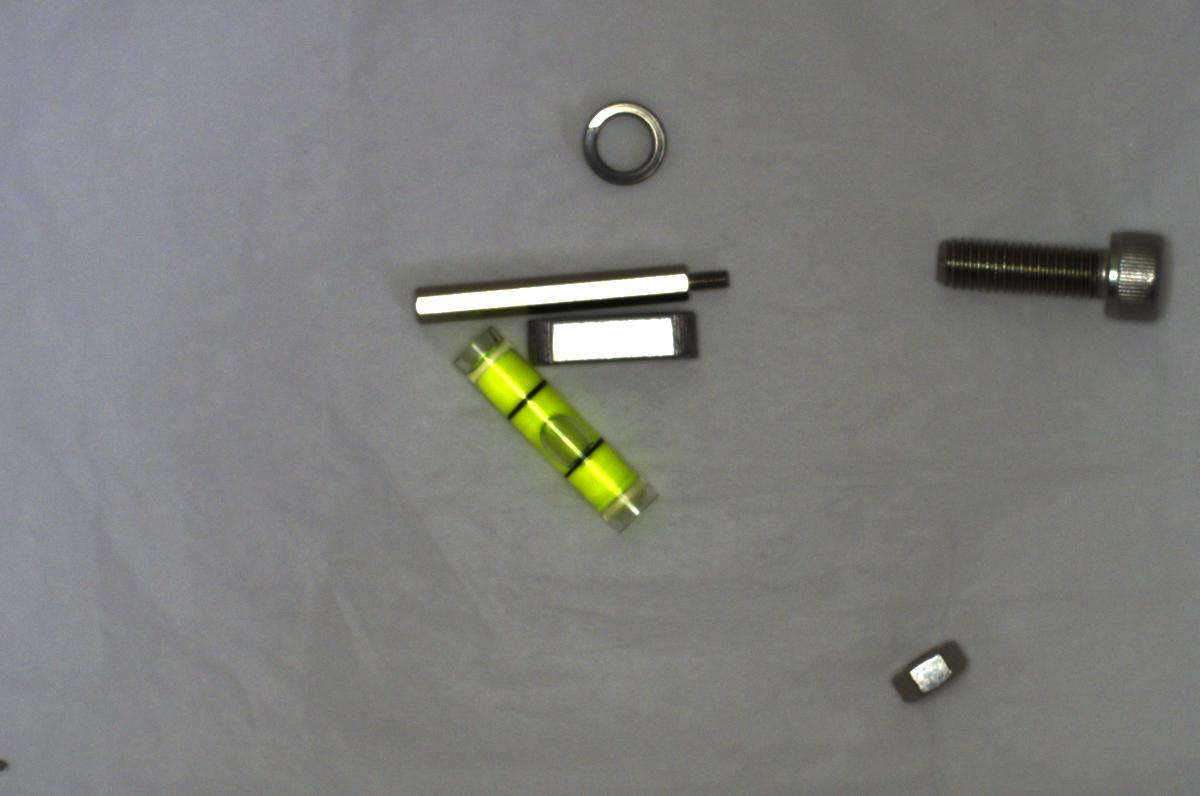Hexagon nut: (887, 628, 970, 712)
Hexagon screw: (919, 216, 1179, 329)
Hexagonal steel column: (405, 256, 734, 322)
Horizontal bubble: (448, 316, 665, 538)
Keybar: (522, 308, 718, 374)
Spring washer: (572, 86, 680, 201)
